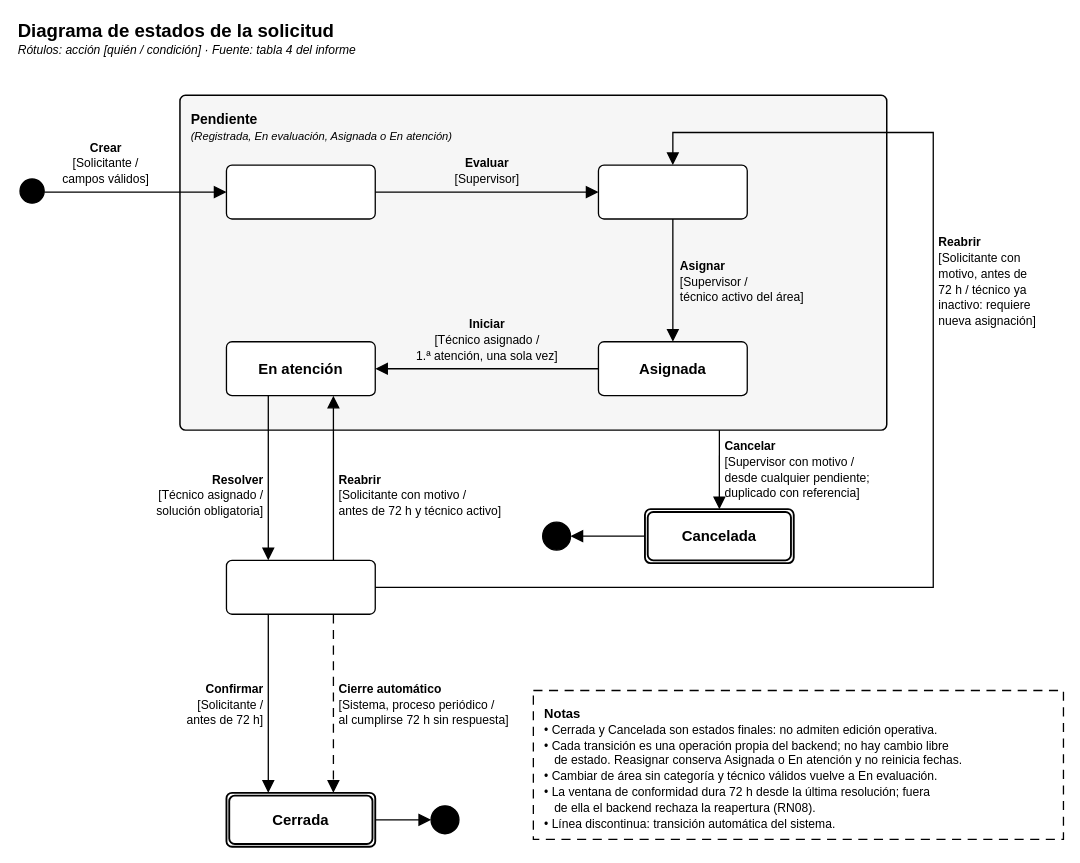
The diagram is 1080 pixels wide and 863 high, and some of its shapes have lost their labels. Each missing label, with the centre of its shape:
En evaluación: the point at 672,191
Registrada: the point at 300,191
Resuelta: the point at 300,586
